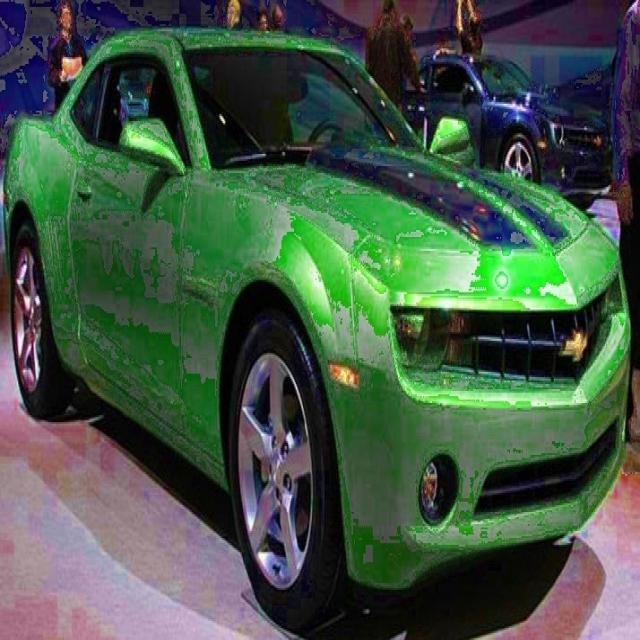green: (4, 24, 632, 628)
